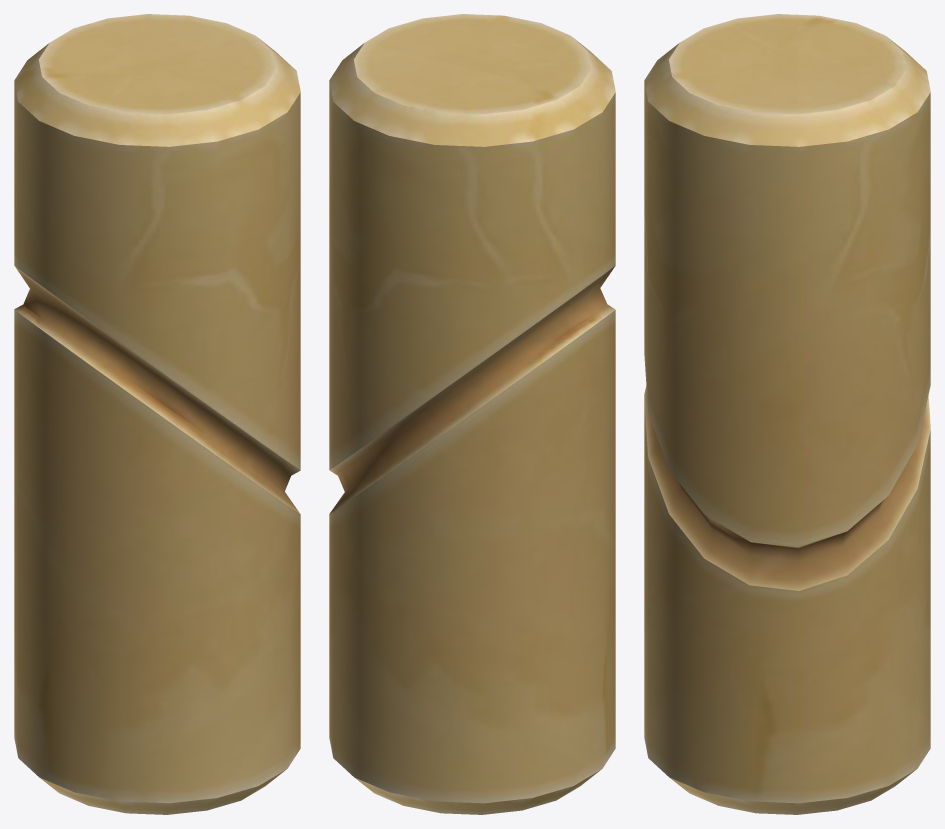
The model's file is DE_House_Mod_Part_94.fbx.
3 renders of one model, left to right at view 1: azimuth 30°, elevation 25°; view 2: azimuth 150°, elevation 25°; view 3: azimuth 270°, elevation 25°, orthographic.
Parts seen in each view (by area): view 1: DE_House_Mod_Part_94; view 2: DE_House_Mod_Part_94; view 3: DE_House_Mod_Part_94.
Part boxes in pixels (left/top/right/bottom): DE_House_Mod_Part_94: left=14, top=14, right=300, bottom=814; DE_House_Mod_Part_94: left=329, top=14, right=615, bottom=814; DE_House_Mod_Part_94: left=644, top=14, right=930, bottom=814.
Bounding box in the file's own units: 0.9775 × 2.63 × 0.9765.
